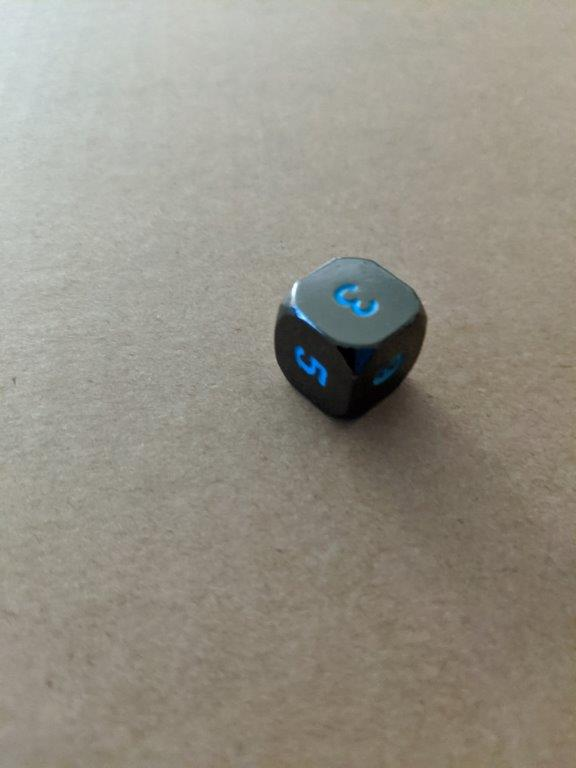d6-3: (272, 254, 428, 424)
